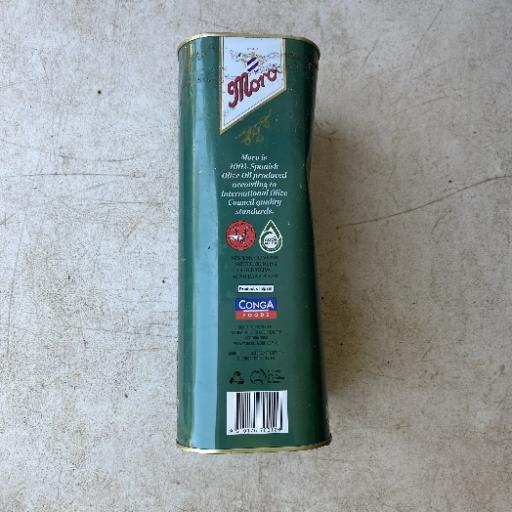Metal: (173, 30, 333, 454)
